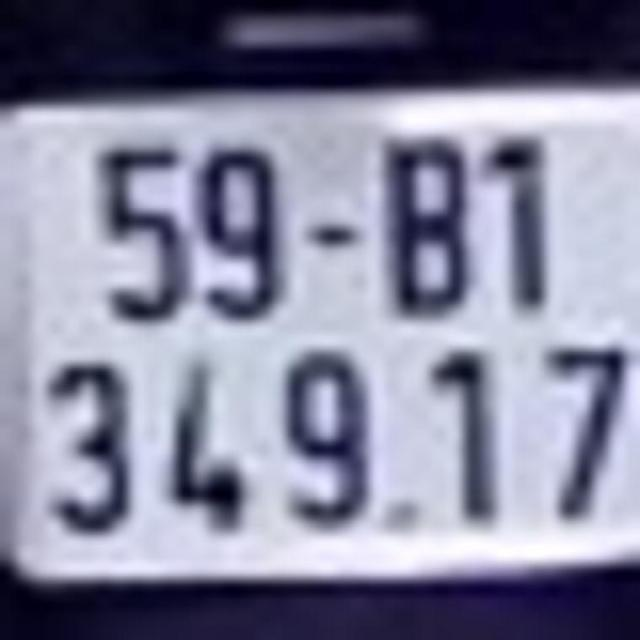1: (430, 340, 504, 520), (486, 131, 556, 303)
3: (47, 346, 133, 545)
4: (168, 357, 250, 540)
5: (99, 134, 181, 323)
7: (536, 324, 626, 527)
9: (284, 342, 376, 532), (194, 142, 282, 316)
B: (390, 129, 474, 322)
